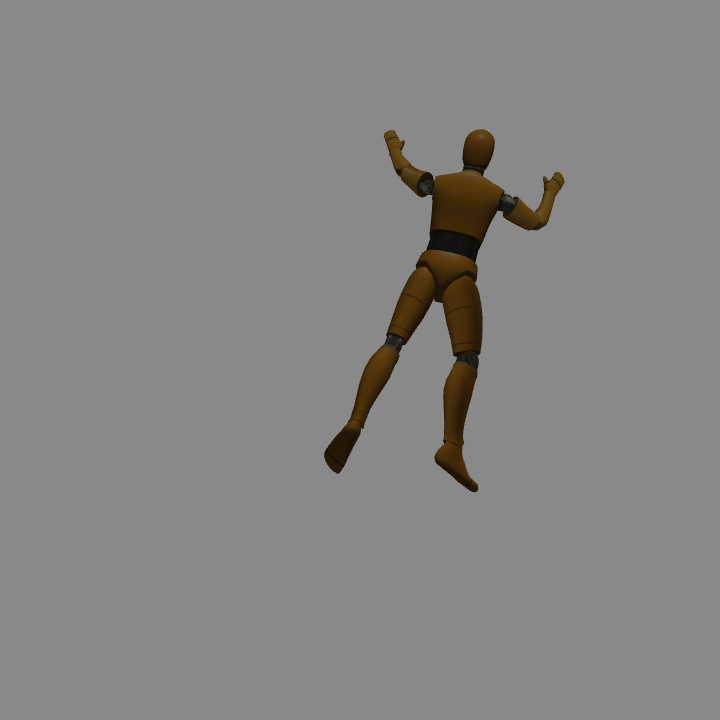victim: (384, 128, 496, 490)
